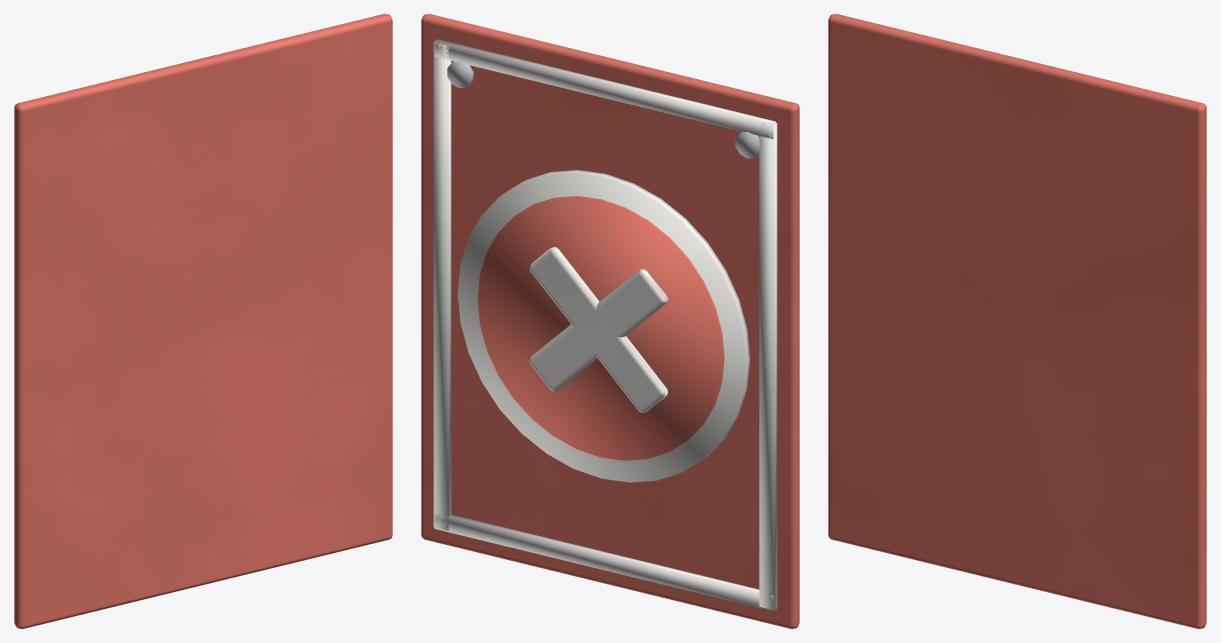
The model's file is Inspect_FineNotice.fbx.
3 views of the same model, side by side, from view 1: azimuth 30°, elevation 25°; view 2: azimuth 150°, elevation 25°; view 3: azimuth 330°, elevation 25° (orthographic).
Parts seen in each view (by area): view 1: Inspect_FineNotice; view 2: Inspect_FineNotice; view 3: Inspect_FineNotice.
Part boxes in pixels (left/top/right/bottom): Inspect_FineNotice: left=14, top=14, right=392, bottom=628; Inspect_FineNotice: left=421, top=14, right=799, bottom=628; Inspect_FineNotice: left=828, top=14, right=1206, bottom=628.
Size of the model in its own units: 0.3 by 0.4 by 0.025.
Materials: 1 (1 with a texture image).
